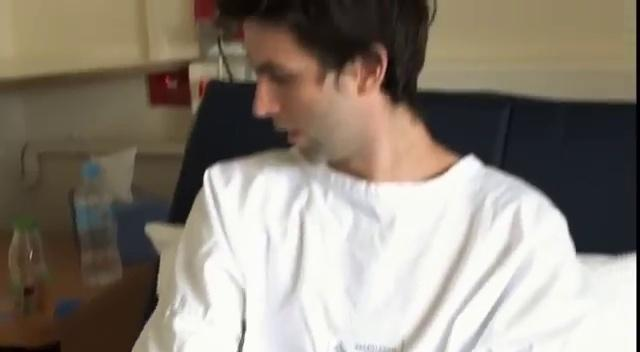patient: (129, 0, 635, 350)
